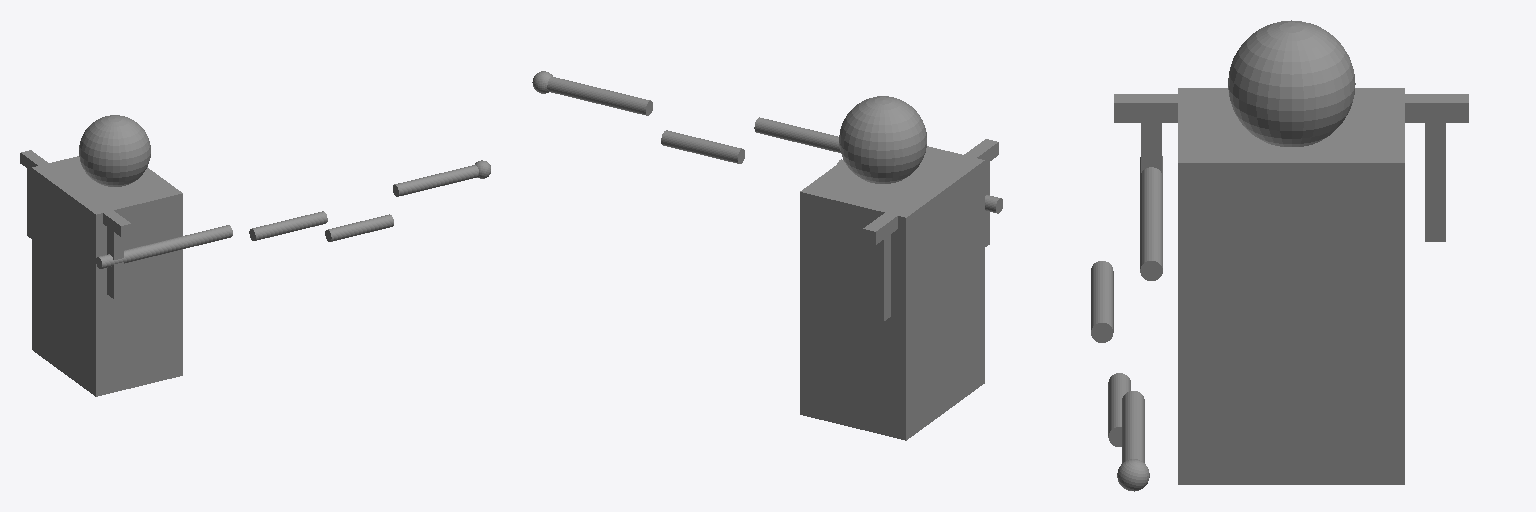
The robot description file, URDF, robot "arm_demo":
<?xml version="1.0" ?>
<!-- =================================================================================== -->
<!-- |    This document was autogenerated by xacro from robot.xacro                    | -->
<!-- |    EDITING THIS FILE BY HAND IS NOT RECOMMENDED                                 | -->
<!-- =================================================================================== -->
<robot name="arm_demo" xmlns:xacro="http://www.ros.org/wiki/xacro">
  <!-- *************************** XACRO MACROS *************************** -->
  <!-- ************************* ROBOT DEFINITION ************************* -->
  <link name="world"/>
  <link name="shoulder_len">
    <visual>
      <origin rpy="0 0 0" xyz="0 .2475 0"/>
      <geometry>
        <box size="0.03 0.5 0.03"/>
      </geometry>
      <material name="silver">
        <color rgba="0.6 0.6 0.6 1"/>
      </material>
    </visual>
    <collision>
      <origin rpy="0 0 0" xyz="0 -.2475 0"/>
      <geometry>
        <box size="0.03 0.5 0.03"/>
      </geometry>
    </collision>
    <inertial>
      <origin rpy="0 0 0" xyz="0 .2475 0"/>
      <mass value="1.0"/>
      <inertia ixx=".021" ixy="0.0" ixz="0.0" iyy=".021" iyz="0.0" izz=".00015"/>
    </inertial>
  </link>
  <link name="body">
    <visual>
      <origin rpy="0 0 0" xyz=".09 0.2475 -.25"/>
      <geometry>
        <box size="0.25 0.32 .5"/>
      </geometry>
      <material name="silver">
        <color rgba="0.6 0.6 0.6 1"/>
      </material>
    </visual>
    <collision>
      <origin rpy="0 0 0" xyz=".09 0.2475 -.25"/>
      <geometry>
        <box size="0.18 0.32 0.5"/>
      </geometry>
    </collision>
    <inertial>
      <origin rpy="0 0 0" xyz=".09 .2475 -.25"/>
      <mass value="1.0"/>
      <inertia ixx=".112" ixy="0.0" ixz="0.0" iyy=".029" iyz="0.0" izz=".0235"/>
    </inertial>
  </link>
  <link name="head">
    <visual>
      <origin rpy="0 0 0" xyz=".09 0.2475 .09"/>
      <geometry>
        <sphere radius="0.09"/>
      </geometry>
      <material name="silver">
        <color rgba="0.6 0.6 0.6 1"/>
      </material>
    </visual>
    <collision>
      <origin rpy="0 0 0" xyz=".09 0.2475 .09"/>
      <geometry>
        <sphere radius="0.09"/>
      </geometry>
    </collision>
    <inertial>
      <origin rpy="0 0 0" xyz=".09 0.2475 .09"/>
      <mass value="1.0"/>
      <inertia ixx=".00324" ixy="0.0" ixz="0.0" iyy=".00324" iyz="0.0" izz=".00324"/>
    </inertial>
  </link>
  <link name="rodR">
    <visual>
      <origin rpy="0 0 0" xyz="0 .02 -.1"/>
      <geometry>
        <box size="0.03 0.03 0.2"/>
      </geometry>
      <material name="silver">
        <color rgba="0.6 0.6 0.6 1"/>
      </material>
    </visual>
    <collision>
      <origin rpy="0 0 0" xyz="0 -.025 -.1"/>
      <geometry>
        <box size="0.03 0.03 0.2"/>
      </geometry>
    </collision>
    <inertial>
      <origin rpy="0 0 0" xyz="0 -.025 -.1"/>
      <mass value="1.0"/>
      <inertia ixx=".0034" ixy="0.0" ixz="0.0" iyy=".0034" iyz="0.0" izz=".00015"/>
    </inertial>
  </link>
  <link name="rodL">
    <visual>
      <origin rpy="0 0 0" xyz="0 -.025 -.1"/>
      <geometry>
        <box size="0.03 0.03 0.2"/>
      </geometry>
      <material name="silver">
        <color rgba="0.6 0.6 0.6 1"/>
      </material>
    </visual>
    <collision>
      <origin rpy="0 0 0" xyz="0 -.025 -.1"/>
      <geometry>
        <box size="0.03 0.03 0.2"/>
      </geometry>
    </collision>
    <inertial>
      <origin rpy="0 0 0" xyz="0 -.025 -.1"/>
      <mass value="1.0"/>
      <inertia ixx=".0034" ixy="0.0" ixz="0.0" iyy=".0034" iyz="0.0" izz=".00015"/>
    </inertial>
  </link>
  <joint name="right_arm" type="fixed">
    <parent link="world"/>
    <child link="rodR"/>
    <origin rpy="0 0 0" xyz="-.34 0.03 0.5"/>
  </joint>
  <joint name="left_arm" type="fixed">
    <parent link="world"/>
    <child link="rodL"/>
    <origin rpy="0 0 0" xyz="-.34 0.475 0.5"/>
  </joint>
  <joint name="base_base" type="fixed">
    <parent link="world"/>
    <child link="motor1/INPUT_INTERFACE"/>
    <origin rpy="1.3343 0 0" xyz="0 0.03 0.4"/>
  </joint>
  <joint name="base_s" type="fixed">
    <parent link="world"/>
    <child link="ms1/INPUT_INTERFACE"/>
    <origin rpy="0 0 0" xyz="0 0.03 0.4"/>
  </joint>
  <joint name="shoulder" type="fixed">
    <parent link="world"/>
    <child link="shoulder_len"/>
    <origin rpy="0 0 0" xyz="-.34 0 0.5"/>
  </joint>
  <joint name="body" type="fixed">
    <parent link="world"/>
    <child link="body"/>
    <origin rpy="0 0 0" xyz="-.34 0 0.515"/>
  </joint>
  <joint name="head" type="fixed">
    <parent link="world"/>
    <child link="head"/>
    <origin rpy="0 0 0" xyz="-.318 0 0.5"/>
  </joint>
  <link name="motor1/INPUT_INTERFACE">
    <visual>
      <origin rpy="0 0 0" xyz="0 0 0"/>
      <geometry>
        <mesh filename="package://hebiros_description/meshes/x5.stl" scale="0.001 0.001 0.001"/>
      </geometry>
      <material name="red">
        <color rgba=".82 0.06 0.06 1"/>
      </material>
    </visual>
    <collision>
      <origin rpy="0 0 0" xyz="0 0 0"/>
      <geometry>
        <mesh filename="package://hebiros_description/meshes/x5.stl" scale="0.001 0.001 0.001"/>
      </geometry>
    </collision>
    <inertial>
      <origin rpy="0 0 0" xyz="-0.0142 -0.0031 0.0165"/>
      <mass value="0.322"/>
      <mass value="0.335"/>
      <inertia ixx="0.00015" ixy="0.0000341" ixz="0.0000118" iyy="0.000255" iyz="0.00000229" izz="0.000350"/>
    </inertial>
  </link>
  <joint name="motor1/X5_4" type="continuous">
    <parent link="motor1/INPUT_INTERFACE"/>
    <child link="right_arm1/INPUT_INTERFACE"/>
    <origin rpy="0 0 0" xyz="0 0 0.031"/>
    <axis xyz="0 0 1"/>
    <limit effort="7.0" velocity="32"/>
    <dynamics damping="0.1" friction="0.1"/>
  </joint>
  <gazebo reference="motor1/INPUT_INTERFACE">
    <selfCollide>true</selfCollide>
    <gravity>true</gravity>
    <sensor name="motor1/imu_sensor" type="imu">
      <always_on>true</always_on>
      <update_rate>100</update_rate>
      <visualize>true</visualize>
      <plugin filename="libgazebo_ros_imu_sensor.so" name="imu_plugin">
        <topicName>/hebiros_gazebo_plugin/imu/motor1</topicName>
        <bodyName>motor1/imu_link</bodyName>
        <updateRateHZ>10.0</updateRateHZ>
        <gaussianNoise>0.0</gaussianNoise>
        <xyzOffset>0.025 0 0.003</xyzOffset>
        <rpyOffset>0 0 0</rpyOffset>
        <frameName>motor1/imu_link</frameName>
      </plugin>
      <pose>0 0 0 0 0 0</pose>
    </sensor>
  </gazebo>
  <link name="ms1/INPUT_INTERFACE">
    <visual>
      <origin rpy="1.3343 0 0" xyz="0 0 0"/>
      <geometry>
        <mesh filename="package://hebiros_description/meshes/A-2039-02.stl"/>
      </geometry>
      <material name="black">
        <color rgba="0 0 0 1"/>
      </material>
    </visual>
    <visual>
      <origin rpy="0 1.57075 0" xyz="-0.2 0.02 0"/>
      <geometry>
        <cylinder length="0.3746" radius=".016"/>
      </geometry>
      <material name="silver">
        <color rgba="0.6 0.6 0.6 1"/>
      </material>
    </visual>
    <collision>
      <origin rpy="0 1.57079632679 0" xyz="0 0 0"/>
      <geometry>
        <mesh filename="package://hebiros_description/meshes/A-2038-02.stl"/>
      </geometry>
    </collision>
    <collision>
      <origin rpy="0 1.57075 0" xyz="0.2 -0.02 0"/>
      <geometry>
        <cylinder length="0.3746" radius=".016"/>
      </geometry>
    </collision>
    <collision>
      <origin rpy="-1.3343 0 0" xyz="0.4 -0.0194432968708 0.0246859584714"/>
      <geometry>
        <mesh filename="package://hebiros_description/meshes/A-2039-02.stl"/>
      </geometry>
    </collision>
    <!-- Approximate inertia as thin rod about x axis -->
    <inertial>
      <origin rpy="0 0 0" xyz="0.2 0 0.02"/>
      <mass value="0.432"/>
      <inertia ixx="0.0" ixy="0.0" ixz="0.0" iyy="0.00576" iyz="0.0" izz="0.00576"/>
    </inertial>
  </link>
  <gazebo reference="ms1/INPUT_INTERFACE">
    <selfCollide>true</selfCollide>
  </gazebo>
  <link name="right_arm1/INPUT_INTERFACE">
    <visual>
      <origin rpy="0 0 0" xyz="0 0 0"/>
      <geometry>
        <mesh filename="package://hebiros_description/meshes/A-2038-02.stl"/>
      </geometry>
      <material name="black">
        <color rgba="0 0 0 1"/>
      </material>
    </visual>
    <visual>
      <origin rpy="0 1.57075 0" xyz="0.11585 0 0.02"/>
      <geometry>
        <cylinder length="0.2063" radius=".016"/>
      </geometry>
      <material name="silver">
        <color rgba="0.6 0.6 0.6 1"/>
      </material>
    </visual>
    <visual>
      <origin rpy="2.163 0 0" xyz="0.2317 -0.0165942524924 0.00883618415505"/>
      <geometry>
        <mesh filename="package://hebiros_description/meshes/A-2039-02.stl"/>
      </geometry>
      <material name="black">
        <color rgba="0 0 0 1"/>
      </material>
    </visual>
    <collision>
      <origin rpy="0 0 0" xyz="0 0 0"/>
      <geometry>
        <mesh filename="package://hebiros_description/meshes/A-2038-02.stl"/>
      </geometry>
    </collision>
    <collision>
      <origin rpy="0 1.57075 0" xyz="0.11585 0 0.02"/>
      <geometry>
        <cylinder length="0.2063" radius=".016"/>
      </geometry>
    </collision>
    <collision>
      <origin rpy="-2.163 0 0" xyz="0.2317 -0.0165942524924 0.00883618415505"/>
      <geometry>
        <mesh filename="package://hebiros_description/meshes/A-2039-02.stl"/>
      </geometry>
    </collision>
    <!-- Approximate inertia as thin rod about x axis -->
    <inertial>
      <origin rpy="0 0 0" xyz="0.11585 0 0.02"/>
      <mass value="0.36468"/>
      <inertia ixx="0.0" ixy="0.0" ixz="0.0" iyy="0.0016314838071" iyz="0.0" izz="0.0016314838071"/>
    </inertial>
  </link>
  <joint name="right_arm1/OUTPUT_JOINT" type="fixed">
    <parent link="right_arm1/INPUT_INTERFACE"/>
    <child link="motor2/INPUT_INTERFACE"/>
    <origin rpy="2.163 0 0" xyz="0.2317 -0.0165942524924 0.00883618415505"/>
  </joint>
  <gazebo reference="right_arm1/INPUT_INTERFACE">
    <selfCollide>true</selfCollide>
  </gazebo>
  <link name="motor2/INPUT_INTERFACE">
    <visual>
      <origin rpy="0 0 0" xyz="0 0 0"/>
      <geometry>
        <mesh filename="package://hebiros_description/meshes/x5.stl" scale="0.001 0.001 0.001"/>
      </geometry>
      <material name="red">
        <color rgba=".82 0.06 0.06 1"/>
      </material>
    </visual>
    <collision>
      <origin rpy="0 0 0" xyz="0 0 0"/>
      <geometry>
        <mesh filename="package://hebiros_description/meshes/x5.stl" scale="0.001 0.001 0.001"/>
      </geometry>
    </collision>
    <inertial>
      <origin rpy="0 0 0" xyz="-0.0142 -0.0031 0.0165"/>
      <mass value="0.322"/>
      <mass value="0.335"/>
      <inertia ixx="0.00015" ixy="0.0000341" ixz="0.0000118" iyy="0.000255" iyz="0.00000229" izz="0.000350"/>
    </inertial>
  </link>
  <joint name="motor2/X5_4" type="continuous">
    <parent link="motor2/INPUT_INTERFACE"/>
    <child link="right_arm2/INPUT_INTERFACE"/>
    <origin rpy="0 0 0" xyz="0 0 0.031"/>
    <axis xyz="0 0 1"/>
    <limit effort="7.0" velocity="32"/>
    <dynamics damping="0.1" friction="0.1"/>
  </joint>
  <gazebo reference="motor2/INPUT_INTERFACE">
    <selfCollide>true</selfCollide>
    <gravity>true</gravity>
    <sensor name="motor2/imu_sensor" type="imu">
      <always_on>true</always_on>
      <update_rate>100</update_rate>
      <visualize>true</visualize>
      <plugin filename="libgazebo_ros_imu_sensor.so" name="imu_plugin">
        <topicName>/hebiros_gazebo_plugin/imu/motor2</topicName>
        <bodyName>motor2/imu_link</bodyName>
        <updateRateHZ>10.0</updateRateHZ>
        <gaussianNoise>0.0</gaussianNoise>
        <xyzOffset>0.025 0 0.003</xyzOffset>
        <rpyOffset>0 0 0</rpyOffset>
        <frameName>motor2/imu_link</frameName>
      </plugin>
      <pose>0 0 0 0 0 0</pose>
    </sensor>
  </gazebo>
  <link name="right_arm2/INPUT_INTERFACE">
    <visual>
      <origin rpy="0 0 0" xyz="0 0 0"/>
      <geometry>
        <mesh filename="package://hebiros_description/meshes/A-2038-02.stl"/>
      </geometry>
      <material name="black">
        <color rgba="0 0 0 1"/>
      </material>
    </visual>
    <visual>
      <origin rpy="0 1.57075 0" xyz="0.1024 0 0.02"/>
      <geometry>
        <cylinder length="0.1794" radius=".016"/>
      </geometry>
      <material name="silver">
        <color rgba="0.6 0.6 0.6 1"/>
      </material>
    </visual>
    <visual>
      <origin rpy="-3.7736 0 0" xyz="0.2048 -0.0118153112202 0.00386313472914"/>
      <geometry>
        <mesh filename="package://hebiros_description/meshes/A-2039-02.stl"/>
      </geometry>
      <material name="black">
        <color rgba="0 0 0 1"/>
      </material>
    </visual>
    <collision>
      <origin rpy="0 0 0" xyz="0 0 0"/>
      <geometry>
        <mesh filename="package://hebiros_description/meshes/A-2038-02.stl"/>
      </geometry>
    </collision>
    <collision>
      <origin rpy="0 1.57075 0" xyz="0.1024 0 0.02"/>
      <geometry>
        <cylinder length="0.1794" radius=".016"/>
      </geometry>
    </collision>
    <collision>
      <origin rpy="3.7736 0 0" xyz="0.2048 -0.0118153112202 0.00386313472914"/>
      <geometry>
        <mesh filename="package://hebiros_description/meshes/A-2039-02.stl"/>
      </geometry>
    </collision>
    <!-- Approximate inertia as thin rod about x axis -->
    <inertial>
      <origin rpy="0 0 0" xyz="0.1024 0 0.02"/>
      <mass value="0.35392"/>
      <inertia ixx="0.0" ixy="0.0" ixz="0.0" iyy="0.00123704005973" iyz="0.0" izz="0.00123704005973"/>
    </inertial>
  </link>
  <joint name="right_arm2/OUTPUT_JOINT" type="fixed">
    <parent link="right_arm2/INPUT_INTERFACE"/>
    <child link="motor3/INPUT_INTERFACE"/>
    <origin rpy="-3.7736 0 0" xyz="0.2048 -0.0118153112202 0.00386313472914"/>
  </joint>
  <gazebo reference="right_arm2/INPUT_INTERFACE">
    <selfCollide>true</selfCollide>
  </gazebo>
  <link name="motor3/INPUT_INTERFACE">
    <visual>
      <origin rpy="0 0 0" xyz="0 0 0"/>
      <geometry>
        <mesh filename="package://hebiros_description/meshes/x5.stl" scale="0.001 0.001 0.001"/>
      </geometry>
      <material name="red">
        <color rgba=".82 0.06 0.06 1"/>
      </material>
    </visual>
    <collision>
      <origin rpy="0 0 0" xyz="0 0 0"/>
      <geometry>
        <mesh filename="package://hebiros_description/meshes/x5.stl" scale="0.001 0.001 0.001"/>
      </geometry>
    </collision>
    <inertial>
      <origin rpy="0 0 0" xyz="-0.0142 -0.0031 0.0165"/>
      <mass value="0.322"/>
      <mass value="0.335"/>
      <inertia ixx="0.00015" ixy="0.0000341" ixz="0.0000118" iyy="0.000255" iyz="0.00000229" izz="0.000350"/>
    </inertial>
  </link>
  <joint name="motor3/X5_4" type="continuous">
    <parent link="motor3/INPUT_INTERFACE"/>
    <child link="sensor/INPUT_INTERFACE"/>
    <origin rpy="0 0 0" xyz="0 0 0.031"/>
    <axis xyz="0 0 1"/>
    <limit effort="7.0" velocity="32"/>
    <dynamics damping="0.1" friction="0.1"/>
  </joint>
  <gazebo reference="motor3/INPUT_INTERFACE">
    <selfCollide>true</selfCollide>
    <gravity>true</gravity>
    <sensor name="motor3/imu_sensor" type="imu">
      <always_on>true</always_on>
      <update_rate>100</update_rate>
      <visualize>true</visualize>
      <plugin filename="libgazebo_ros_imu_sensor.so" name="imu_plugin">
        <topicName>/hebiros_gazebo_plugin/imu/motor3</topicName>
        <bodyName>motor3/imu_link</bodyName>
        <updateRateHZ>10.0</updateRateHZ>
        <gaussianNoise>0.0</gaussianNoise>
        <xyzOffset>0.025 0 0.003</xyzOffset>
        <rpyOffset>0 0 0</rpyOffset>
        <frameName>motor3/imu_link</frameName>
      </plugin>
      <pose>0 0 0 0 0 0</pose>
    </sensor>
  </gazebo>
  <link name="sensor/INPUT_INTERFACE">
    <visual>
      <origin rpy="0 0 0" xyz="0 0 0"/>
      <geometry>
        <mesh filename="package://hebiros_description/meshes/A-2038-02.stl"/>
      </geometry>
      <material name="black">
        <color rgba="0 0 0 1"/>
      </material>
    </visual>
    <visual>
      <origin rpy="0 1.57075 0" xyz="0.12795 0 0.02"/>
      <geometry>
        <cylinder length="0.2305" radius=".016"/>
      </geometry>
      <material name="silver">
        <color rgba="0.6 0.6 0.6 1"/>
      </material>
    </visual>
    <visual>
      <origin rpy="0 0 0" xyz="0.2609 0 0.02"/>
      <geometry>
        <sphere radius="0.023"/>
      </geometry>
      <material name="silver">
        <color rgba="0.6 0.6 0.6 1"/>
      </material>
    </visual>
    <collision>
      <origin rpy="0 0 0" xyz="0 0 0"/>
      <geometry>
        <mesh filename="package://hebiros_description/meshes/A-2038-02.stl"/>
      </geometry>
    </collision>
    <collision>
      <origin rpy="0 1.57075 0" xyz="0.12795 0 0.02"/>
      <geometry>
        <cylinder length="0.2305" radius=".016"/>
      </geometry>
    </collision>
    <collision>
      <origin rpy="0 0 0" xyz="0.2559 0 0.02"/>
      <geometry>
        <sphere radius="0.02"/>
      </geometry>
    </collision>
    <!-- Approximate inertia as thin rod about x axis -->
    <inertial>
      <origin rpy="0 0 0" xyz="0.12795 0 0.02"/>
      <mass value="0.37436"/>
      <inertia ixx="0.0" ixy="0.0" ixz="0.0" iyy="0.0020429077893" iyz="0.0" izz="0.0020429077893"/>
    </inertial>
  </link>
  <joint name="end_joint" type="fixed">
    <parent link="sensor/INPUT_INTERFACE"/>
    <child link="end_link/INPUT_INTERFACE"/>
    <origin rpy="0 0 0" xyz="0.2559 0 0.02"/>
  </joint>
  <gazebo reference="sensor/INPUT_INTERFACE">
    <selfCollide>true</selfCollide>
  </gazebo>
  <!-- end link -->
  <link name="end_link/INPUT_INTERFACE">
  </link>
  <gazebo reference="base">
    <selfCollide>true</selfCollide>
  </gazebo>
  <gazebo>
    <plugin filename="libhebiros_gazebo_plugin.so" name="hebiros_gazebo_plugin">
    </plugin>
  </gazebo>
</robot>

--- Render facts (derived) ---
3 views of the same robot in one strip: view 1: azimuth 30°, elevation 25°; view 2: azimuth 150°, elevation 25°; view 3: azimuth 270°, elevation 25° (orthographic).
Model arm_demo with 14 links and 13 joints (3 continuous, 10 fixed), rooted at world, posed every joint at zero.
Links seen in each view (by area): view 1: body, head, ms1/INPUT_INTERFACE, sensor/INPUT_INTERFACE, shoulder_len, right_arm1/INPUT_INTERFACE, rodR, right_arm2/INPUT_INTERFACE; view 2: body, head, sensor/INPUT_INTERFACE, shoulder_len, rodL, right_arm1/INPUT_INTERFACE, right_arm2/INPUT_INTERFACE; view 3: body, head, shoulder_len, ms1/INPUT_INTERFACE, rodL, sensor/INPUT_INTERFACE, right_arm1/INPUT_INTERFACE, right_arm2/INPUT_INTERFACE, rodR.
Link boxes in pixels (x1,y1,x2,y2): body: [32, 156, 182, 396]; head: [79, 115, 150, 186]; ms1/INPUT_INTERFACE: [96, 225, 232, 268]; sensor/INPUT_INTERFACE: [393, 160, 490, 196]; shoulder_len: [20, 150, 131, 236]; right_arm1/INPUT_INTERFACE: [249, 211, 327, 240]; rodR: [107, 222, 123, 298]; right_arm2/INPUT_INTERFACE: [325, 214, 393, 241]; body: [800, 146, 984, 440]; head: [839, 96, 926, 183]; sensor/INPUT_INTERFACE: [532, 71, 652, 115]; shoulder_len: [863, 139, 998, 244]; rodL: [871, 231, 890, 321]; right_arm1/INPUT_INTERFACE: [754, 117, 840, 152]; right_arm2/INPUT_INTERFACE: [661, 130, 744, 163]; body: [1178, 88, 1404, 484]; head: [1228, 20, 1355, 146]; shoulder_len: [1114, 94, 1468, 122]; ms1/INPUT_INTERFACE: [1140, 156, 1162, 280]; rodL: [1425, 113, 1445, 241]; sensor/INPUT_INTERFACE: [1117, 391, 1149, 491]; right_arm1/INPUT_INTERFACE: [1091, 261, 1113, 342]; right_arm2/INPUT_INTERFACE: [1108, 373, 1130, 446]; rodR: [1141, 113, 1161, 172].
Bounding box of the posed robot: 1.11 × 0.5331 × 0.665 m (x, y, z).
Meshes: 3 distinct files referenced, 0 mesh visuals loaded (none loaded); not drawn: 9 (reference not matched to a file when rendering).
